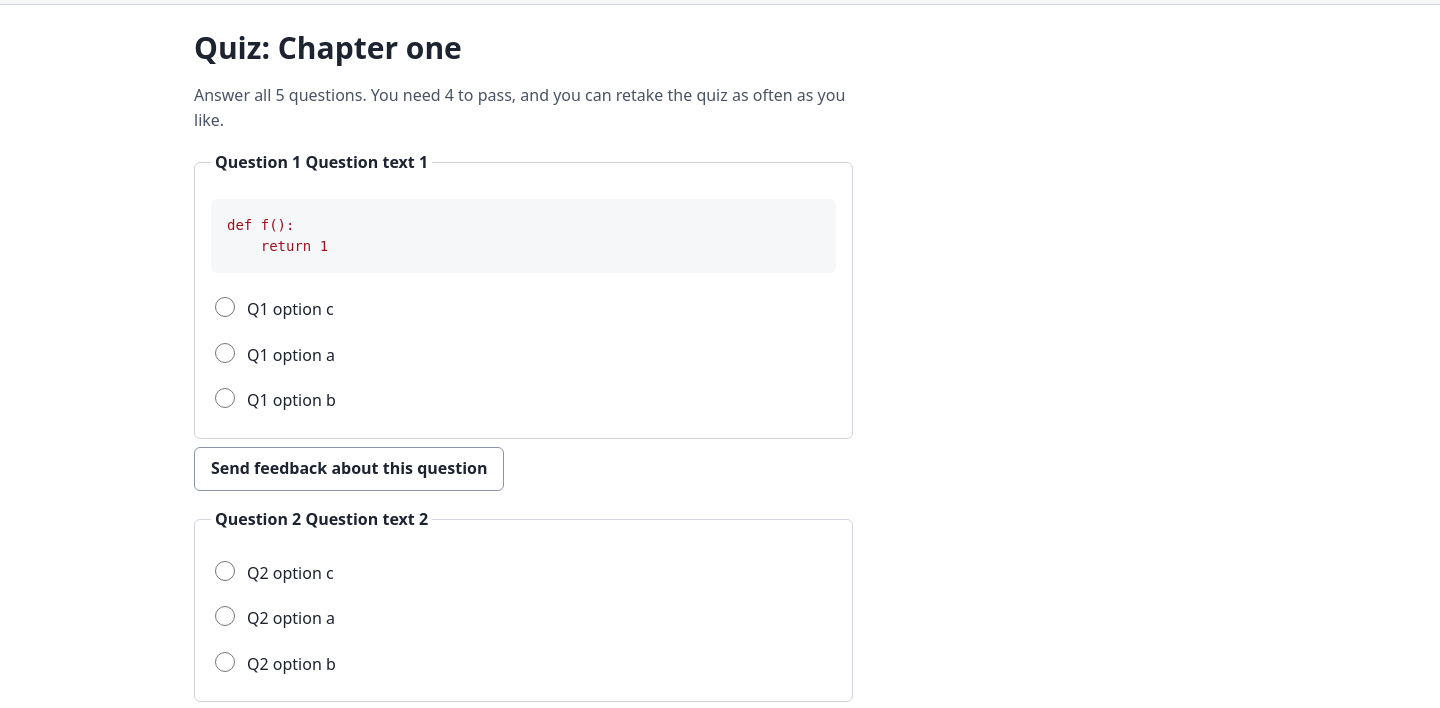
no answer key reaches the snippet's highlighter, the page or the log › asks the highlighter for nothing more on the review after a passed attempt
Step 1. Click the radio button labelled "Q1 option a" → (225, 353), box [215, 343, 235, 363]
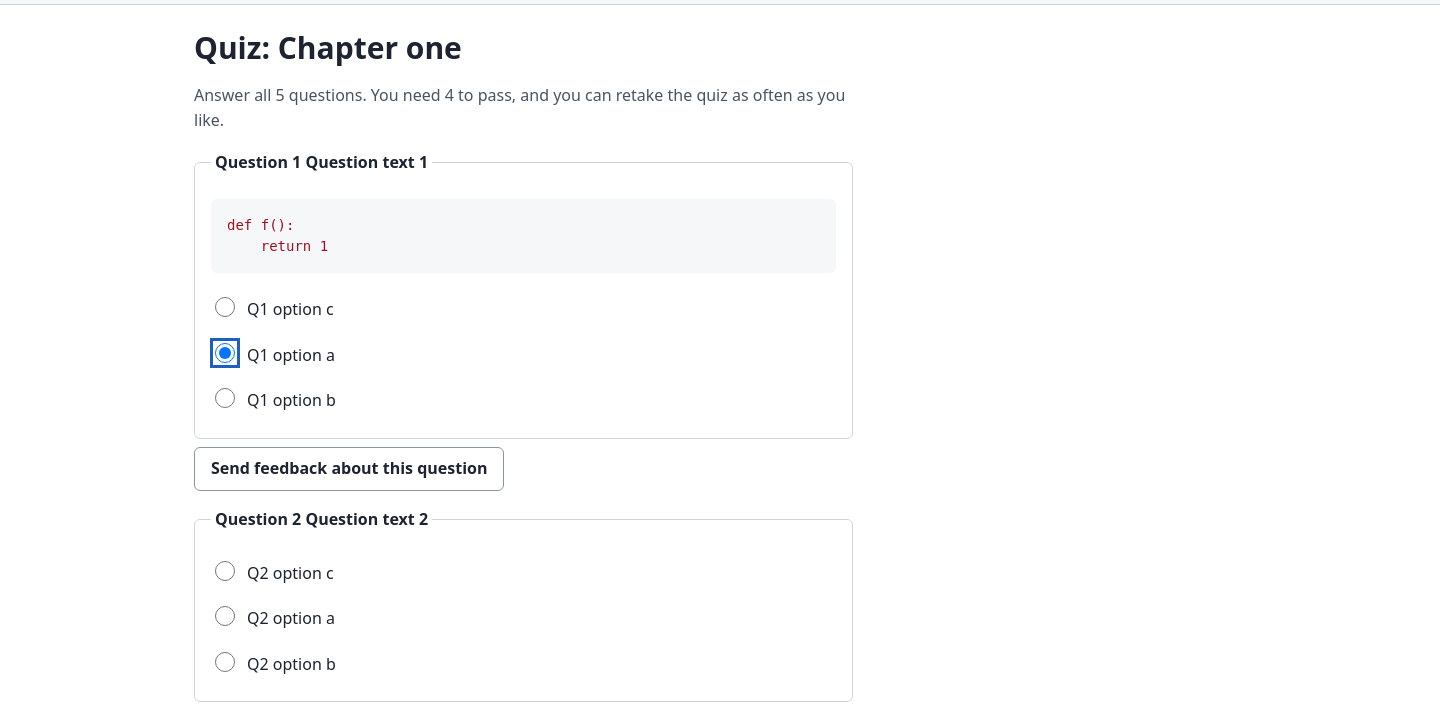
Step 2. Click the radio button labelled "Q2 option a" → (225, 616), box [215, 606, 235, 626]
(page scrolled)
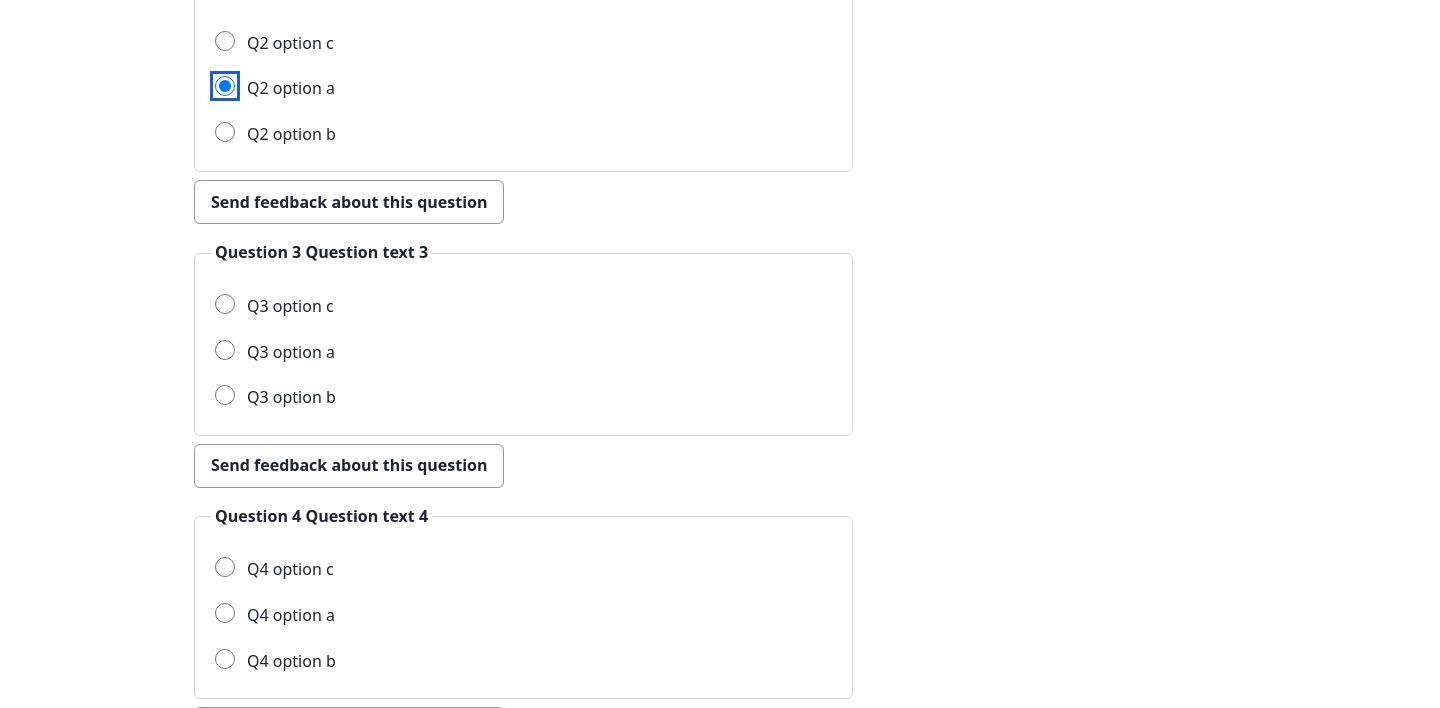
Step 3. Click the radio button labelled "Q3 option a" → (225, 350), box [215, 340, 235, 360]
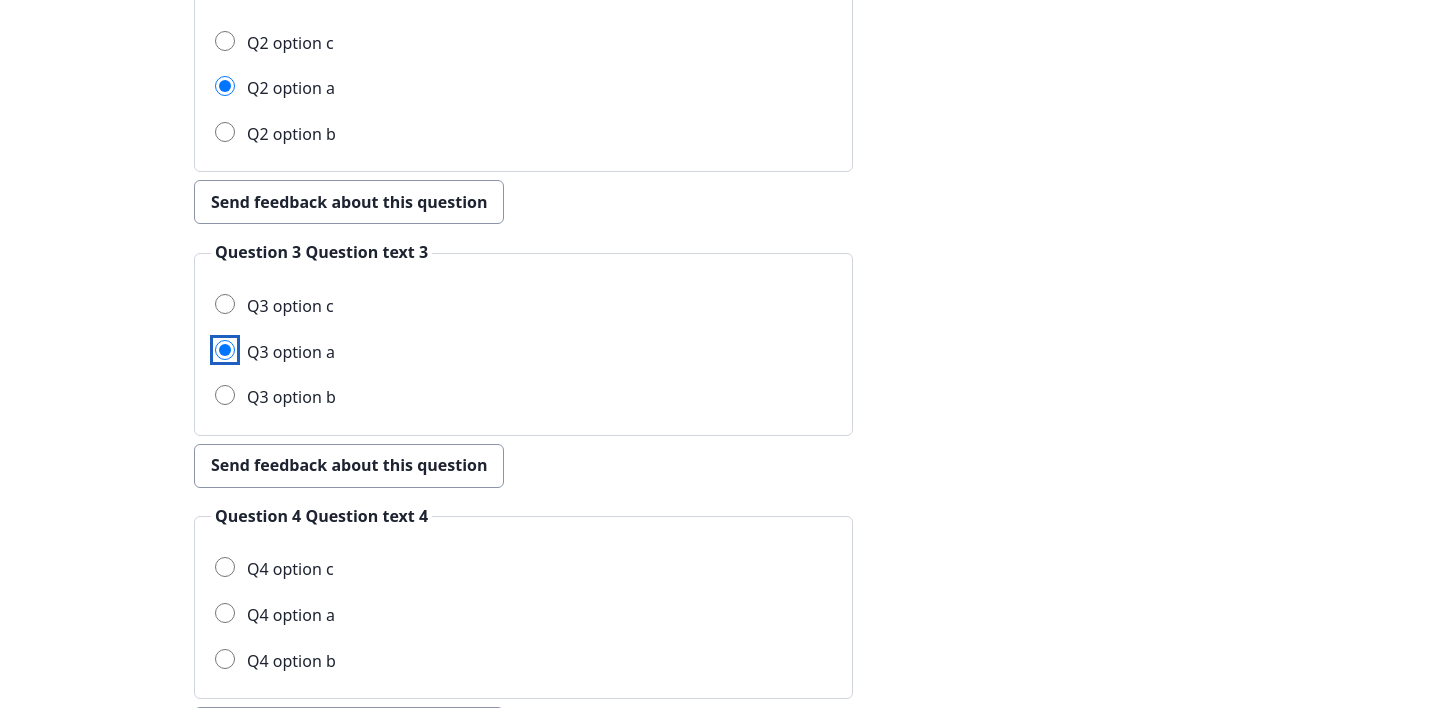
Step 4. Click the radio button labelled "Q4 option a" → (225, 613), box [215, 603, 235, 623]
(page scrolled)
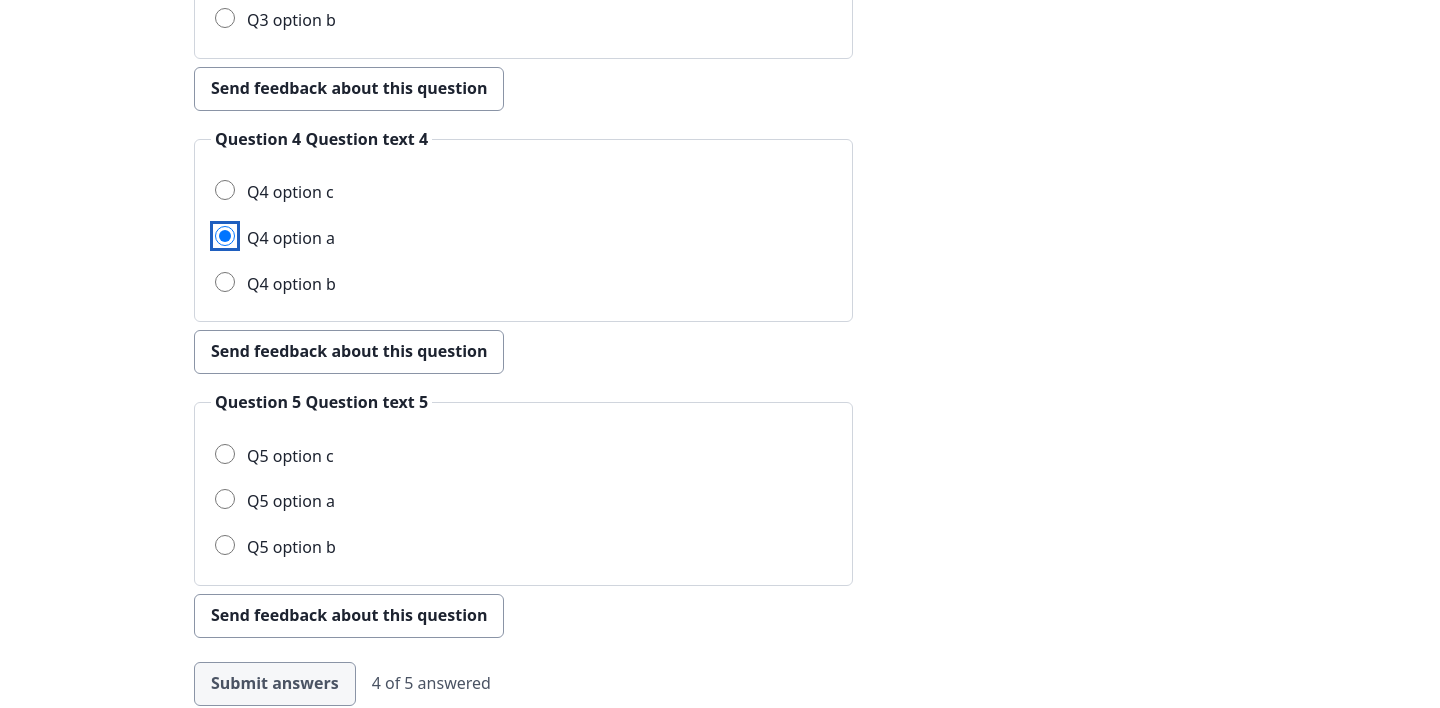
Step 5. Click the radio button labelled "Q5 option a" → (225, 499), box [215, 489, 235, 509]
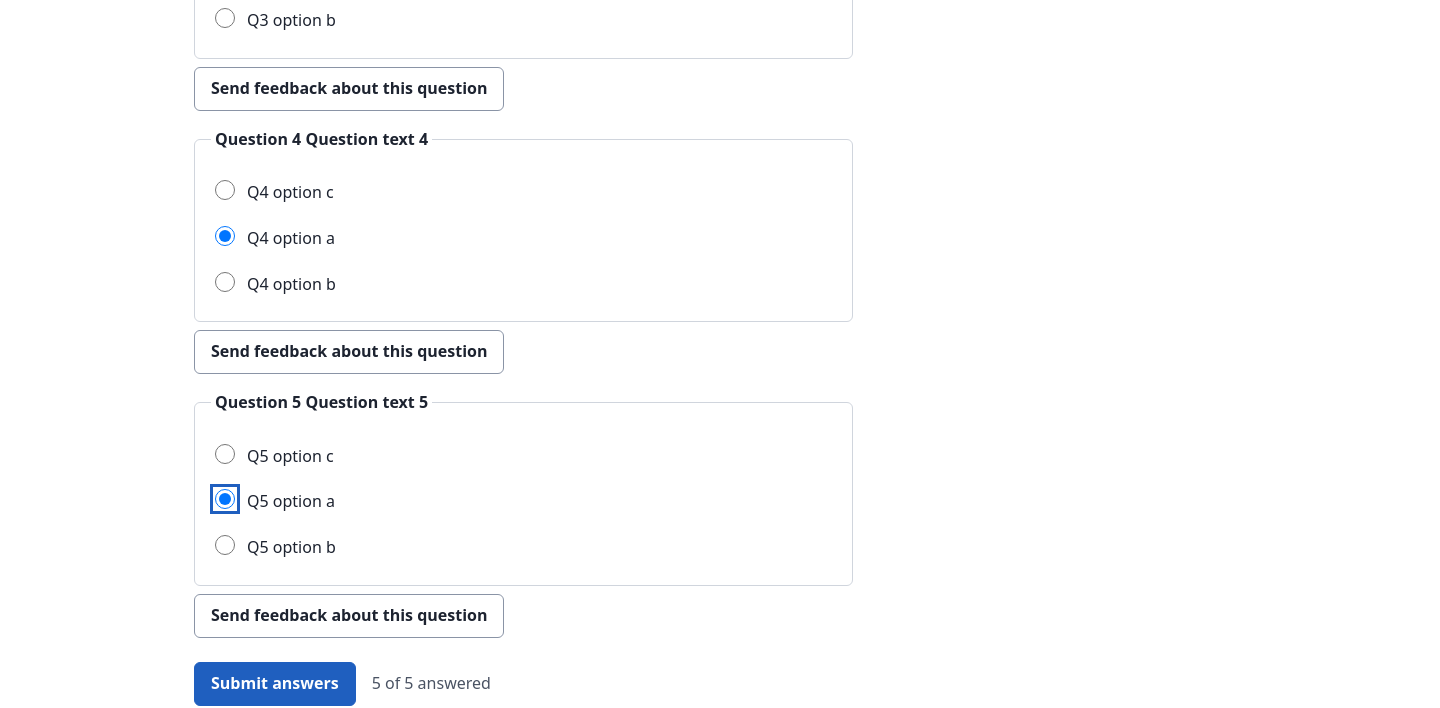
Step 6. Click the button "Submit answers" → (275, 684), box [194, 662, 356, 706]
(page scrolled)
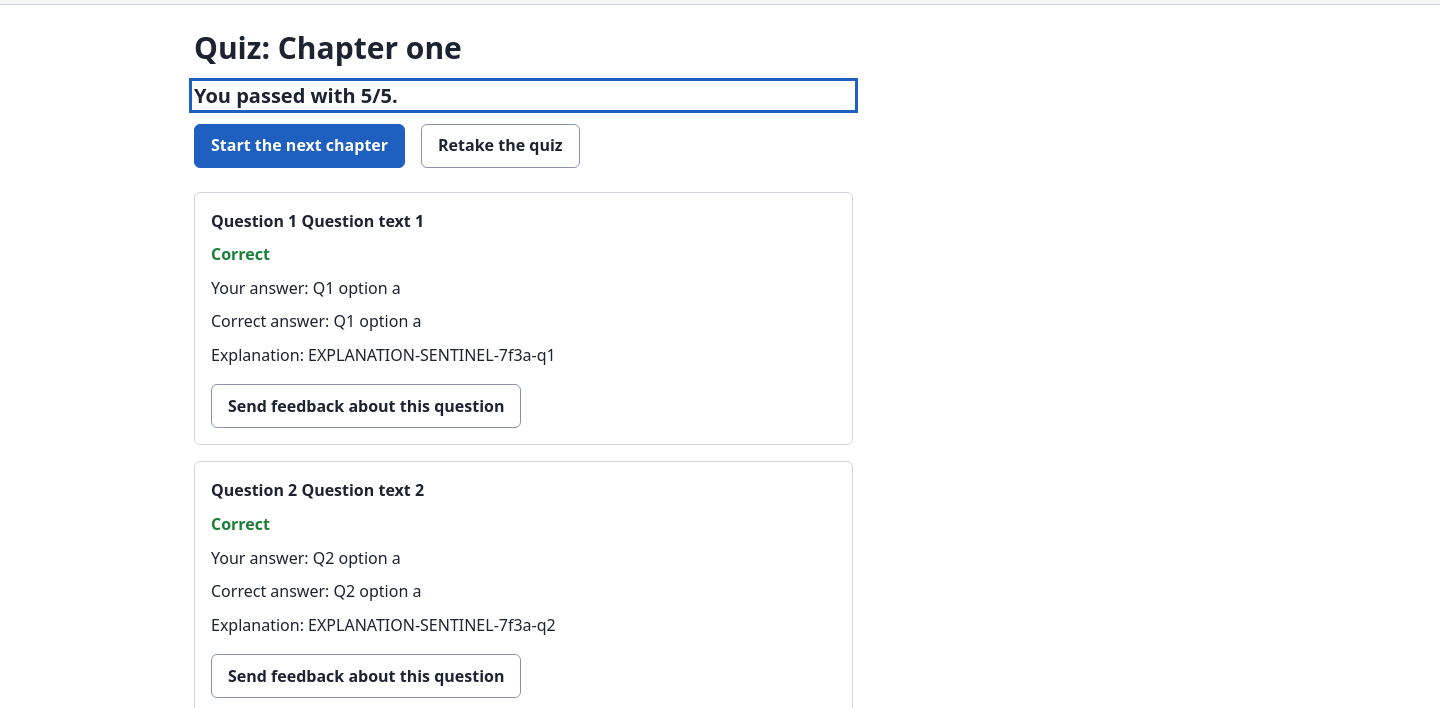
expect the heading "You passed with 5/5." is shown: met, box [194, 82, 398, 108]
